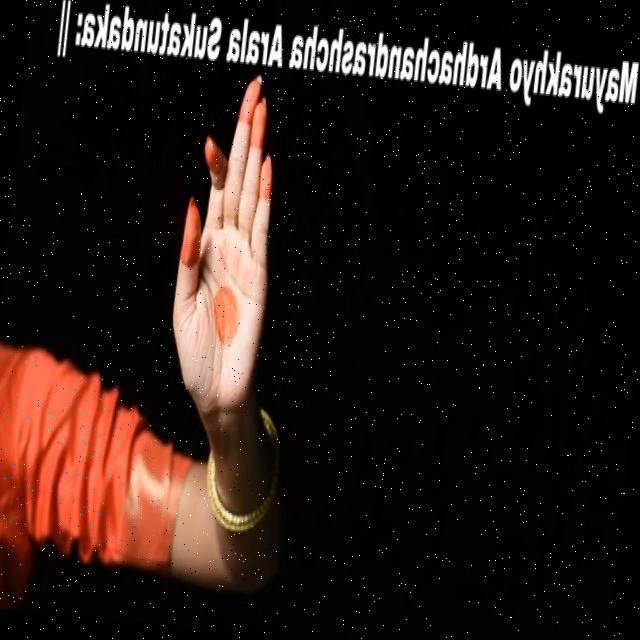Arala: (144, 64, 320, 414)
bangle: (195, 436, 292, 546)
text: (51, 0, 640, 121)
